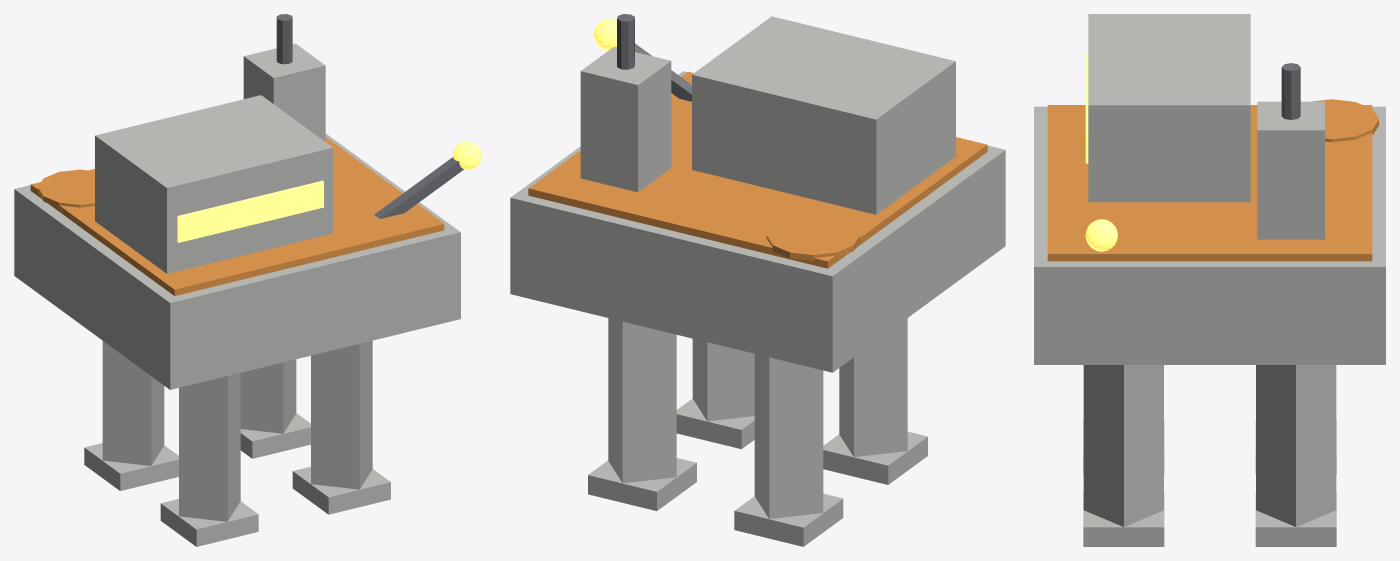
File: drilling_rig_script.glb
3 renders of one model, left to right at view 1: azimuth 30°, elevation 25°; view 2: azimuth 150°, elevation 25°; view 3: azimuth 270°, elevation 25°, orthographic. The views are drawn at different scales.
Visible parts, largest first — view 1: Cube.008, Cube.010, Cube.009, Cube.004, Cube.006, Cube.002, Cube.012, Cube.011, Cube, Cube.005, Cube.007, Cube.003 (+5 smaller); view 2: Cube.008, Cube.010, Cube.009, Cube.012, Cube.002, Cube, Cube.004, Cube.006, Cylinder.001, Cube.003, Cube.001, Cube.005 (+3 smaller); view 3: Cube.008, Cube.010, Cube.009, Cube, Cube.006, Cube.012, Cube.001, Cube.007, Cylinder.001, Cylinder, Sphere, Cube.011.
Part boxes in pixels (x1=…): Cube.008: x1=14, y1=133, x2=460, y2=389; Cube.010: x1=95, y1=95, x2=332, y2=273; Cube.009: x1=30, y1=137, x2=444, y2=295; Cube.004: x1=179, y1=373, x2=240, y2=521; Cube.006: x1=311, y1=340, x2=372, y2=489; Cube.002: x1=102, y1=341, x2=164, y2=465; Cube.012: x1=243, y1=43, x2=325, y2=141; Cube.011: x1=177, y1=180, x2=323, y2=242; Cube: x1=240, y1=359, x2=296, y2=433; Cube.005: x1=160, y1=499, x2=258, y2=546; Cube.007: x1=292, y1=466, x2=390, y2=514; Cube.003: x1=84, y1=443, x2=178, y2=490; Cube.008: x1=510, y1=71, x2=1005, y2=372; Cube.010: x1=692, y1=16, x2=955, y2=214; Cube.009: x1=528, y1=71, x2=987, y2=268; Cube.012: x1=580, y1=47, x2=671, y2=192; Cube.002: x1=754, y1=354, x2=823, y2=518; Cube: x1=608, y1=318, x2=676, y2=483; Cube.004: x1=839, y1=318, x2=907, y2=456; Cube.006: x1=692, y1=339, x2=754, y2=421; Cylinder.001: x1=766, y1=215, x2=859, y2=260; Cube.003: x1=734, y1=493, x2=843, y2=546; Cube.001: x1=588, y1=458, x2=696, y2=510; Cube.005: x1=823, y1=431, x2=927, y2=484; Cube.008: x1=1034, y1=106, x2=1385, y2=364; Cube.010: x1=1088, y1=14, x2=1250, y2=202; Cube.009: x1=1047, y1=105, x2=1372, y2=261; Cube: x1=1256, y1=365, x2=1336, y2=526; Cube.006: x1=1083, y1=365, x2=1163, y2=526; Cube.012: x1=1257, y1=101, x2=1324, y2=239; Cube.001: x1=1255, y1=493, x2=1336, y2=546; Cube.007: x1=1083, y1=493, x2=1164, y2=546; Cylinder.001: x1=1312, y1=99, x2=1378, y2=142; Cylinder: x1=1281, y1=63, x2=1300, y2=119; Sphere: x1=1085, y1=219, x2=1117, y2=251; Cube.011: x1=1085, y1=54, x2=1088, y2=163.
Size of the model in its own units: 32.7 by 38.5 by 26.
